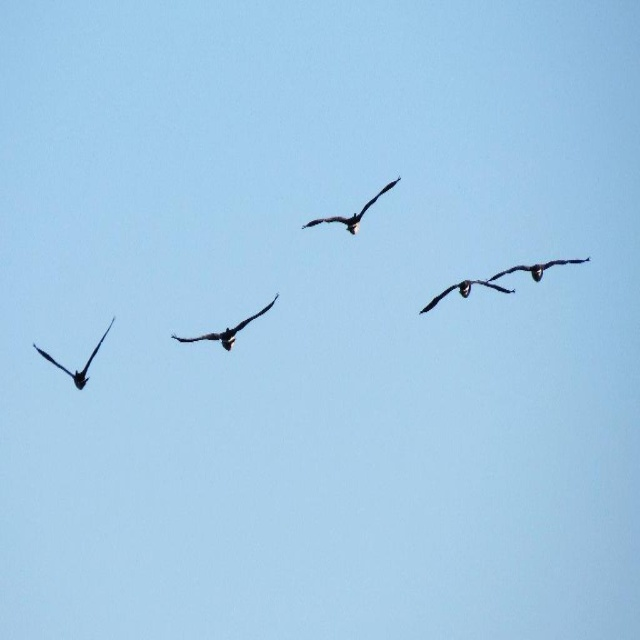Eagle: (170, 288, 283, 354), (32, 314, 119, 390), (302, 176, 403, 236), (420, 275, 516, 323), (485, 256, 589, 285)
